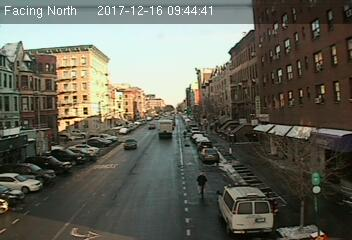bicycle: (196, 170, 209, 200)
car: (200, 148, 219, 163), (124, 139, 138, 149)
police: (213, 181, 277, 240)
truck: (158, 119, 174, 138)
